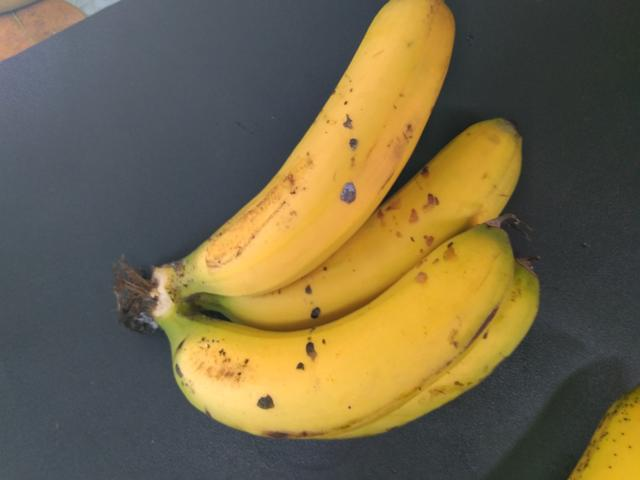ripe: (175, 12, 464, 289), (172, 231, 521, 441), (242, 114, 552, 323)
